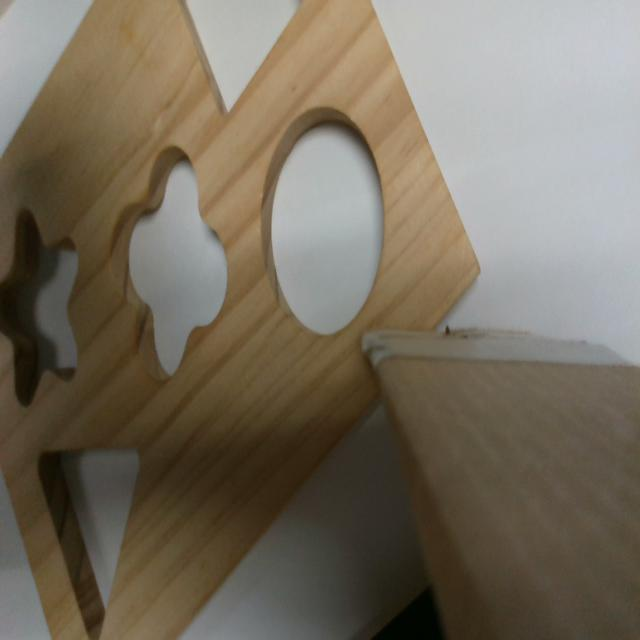circle: (261, 106, 384, 337)
flower: (110, 143, 229, 378)
square: (179, 1, 305, 117)
star: (3, 213, 81, 402)
triangle: (35, 449, 142, 637)
